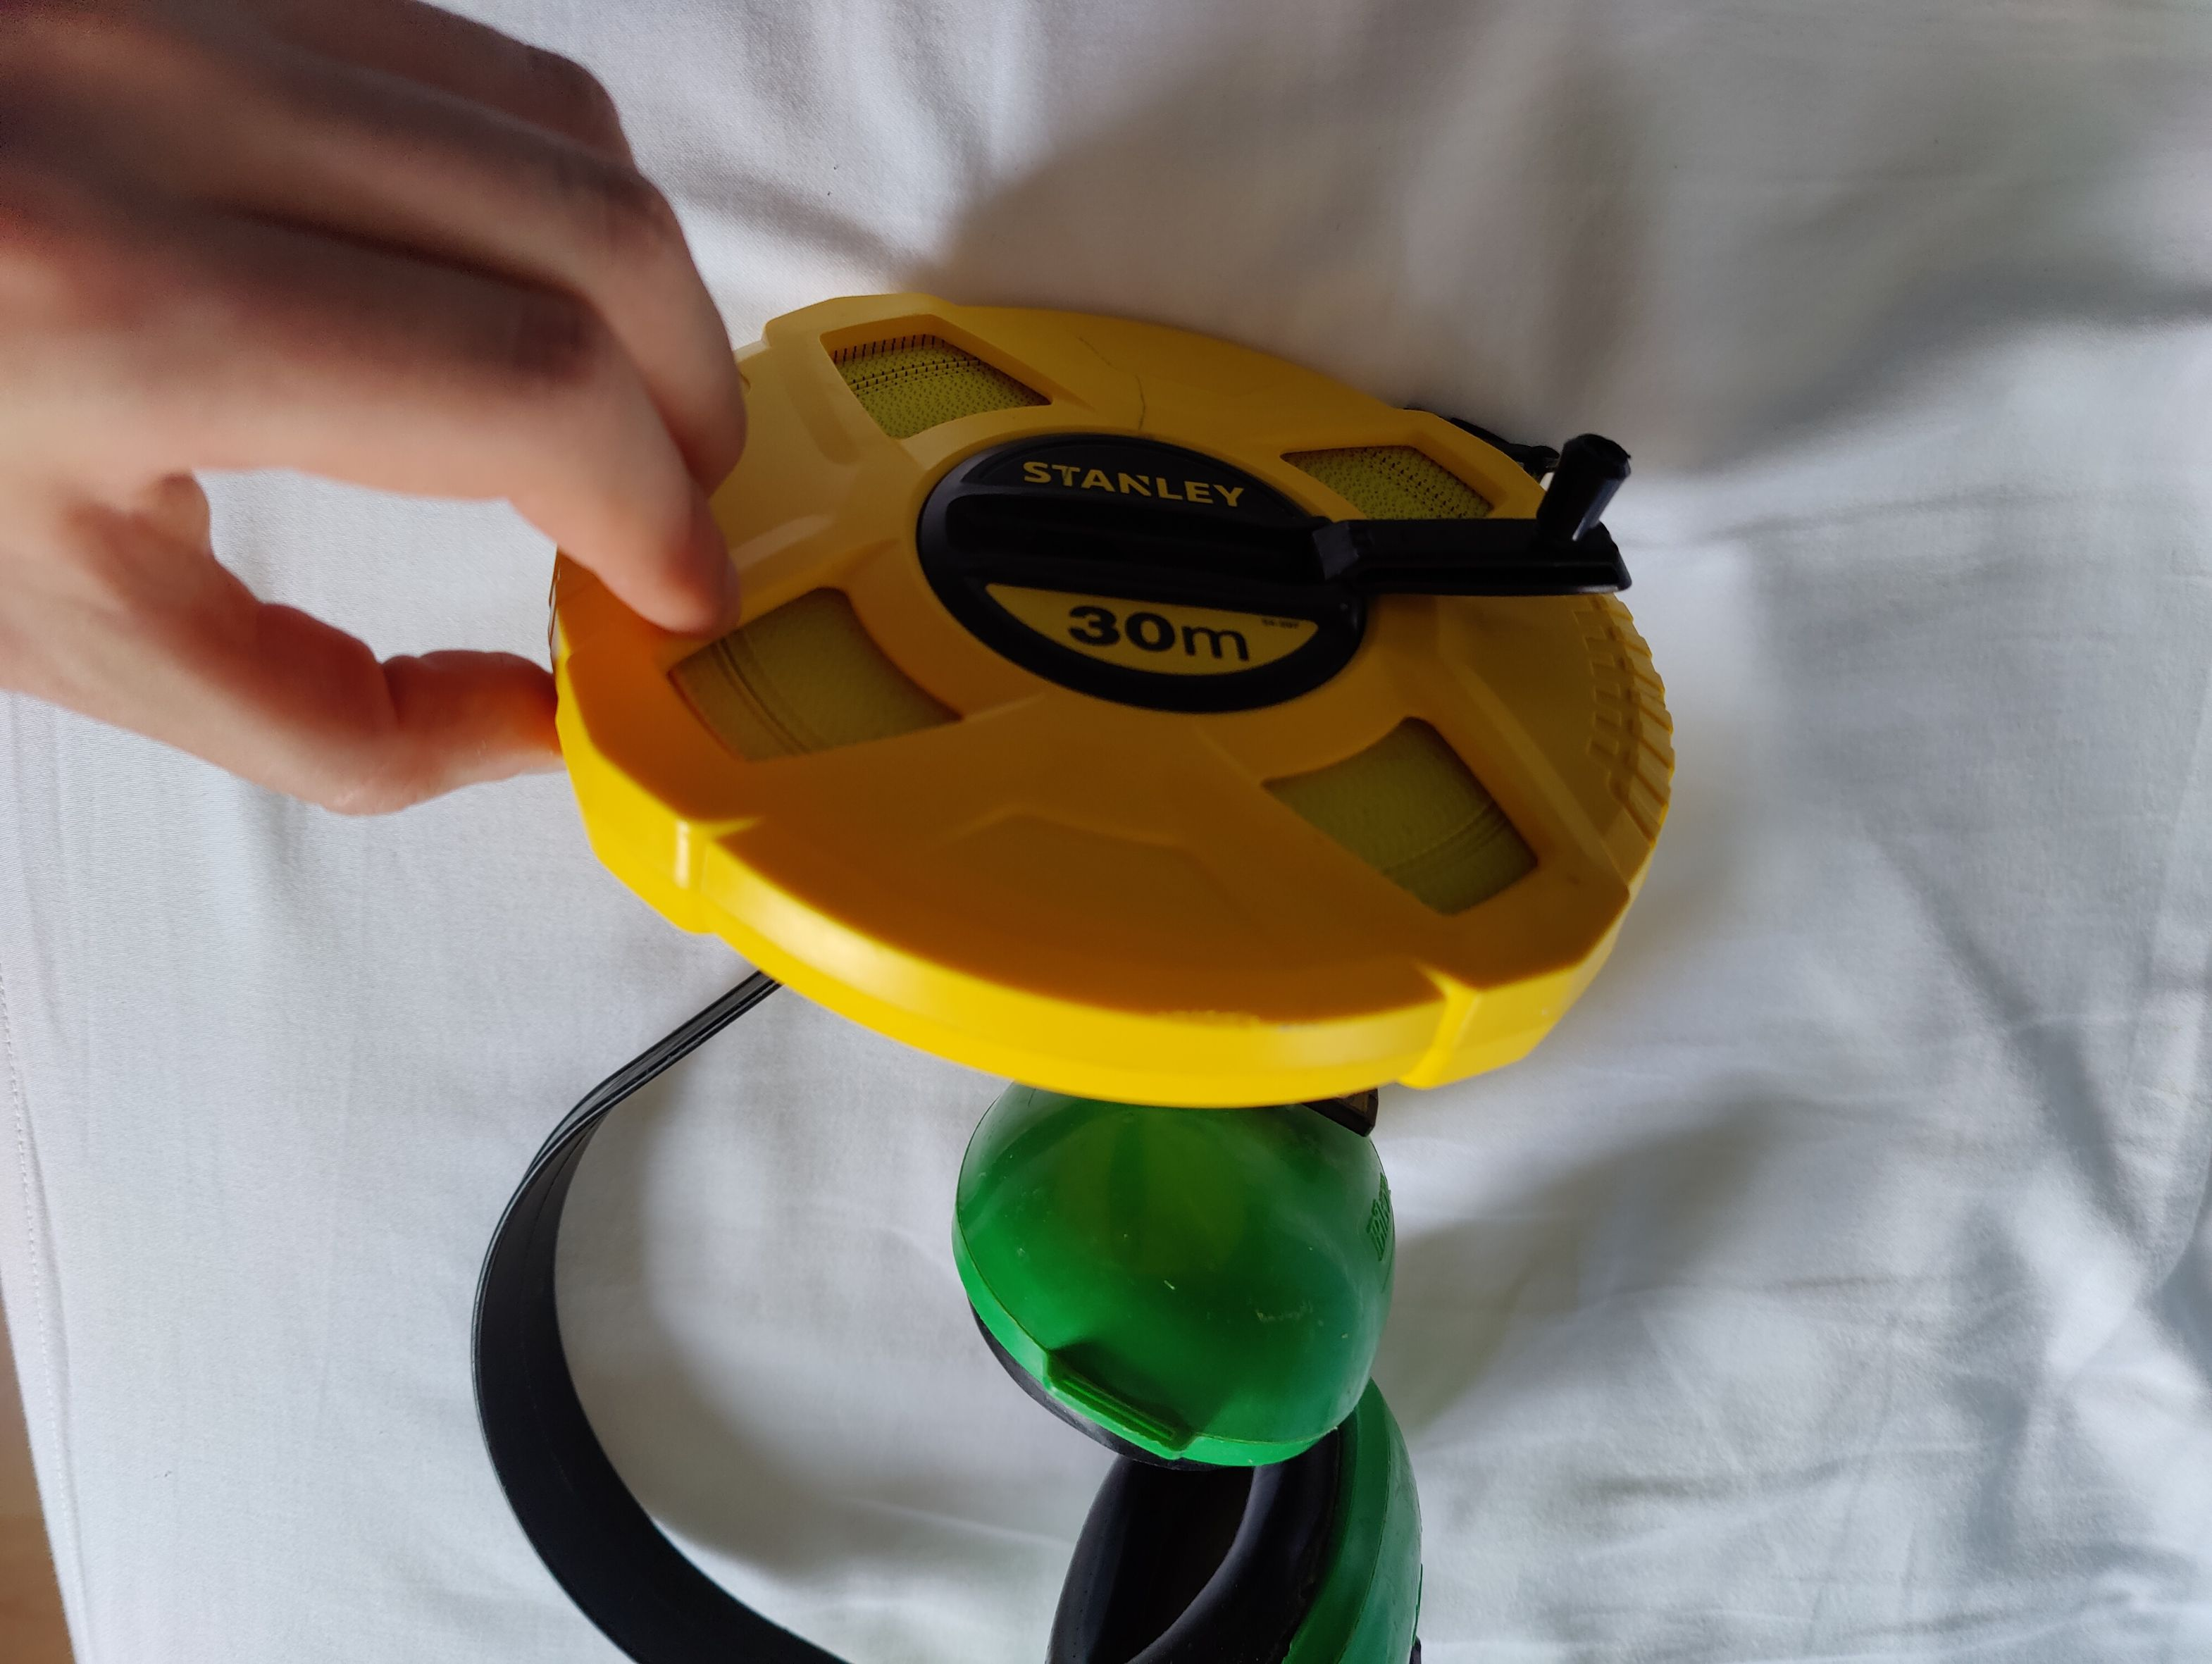headphones: (468, 953, 1433, 1662)
tapemeasure: (550, 295, 1676, 1112)
